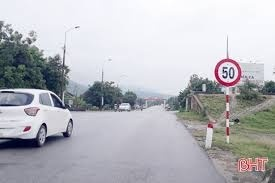Bien khac: (214, 57, 242, 88)
